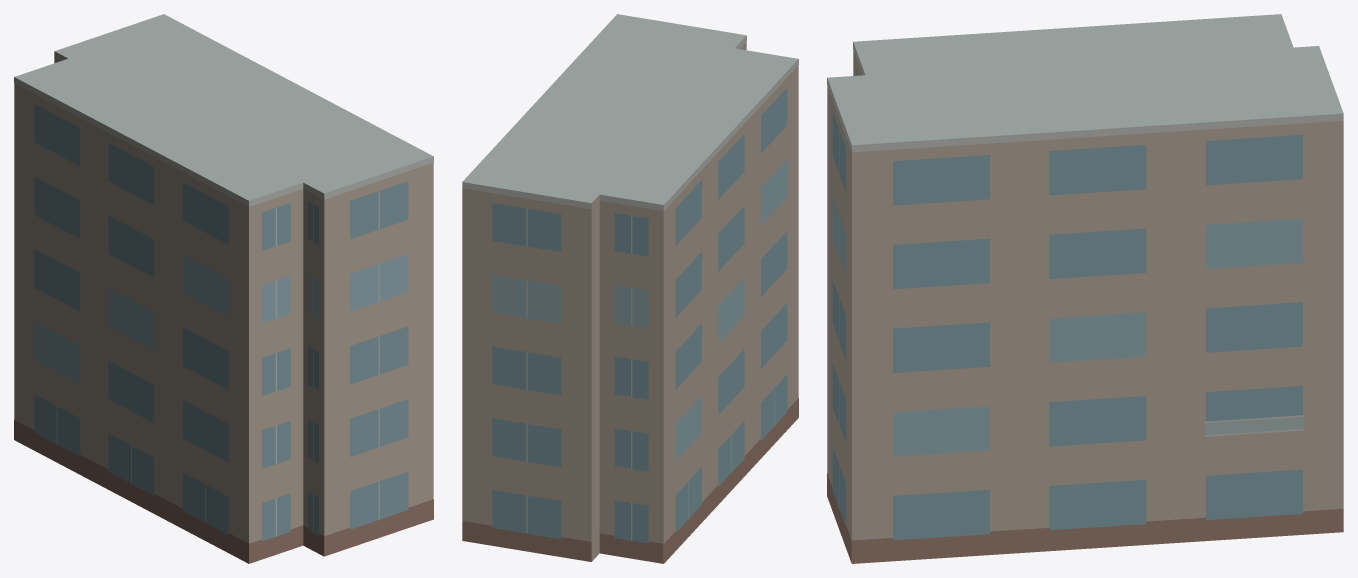
The model's file is survey-upis-32914250.glb.
The picture shows the model from 3 angles, left to right: view 1: azimuth 30°, elevation 25°; view 2: azimuth 150°, elevation 25°; view 3: azimuth 270°, elevation 25°; orthographic projection. The views are drawn at different scales.
Parts seen in each view (by area): view 1: survey-upis-32914250.tmp; view 2: survey-upis-32914250.tmp; view 3: survey-upis-32914250.tmp.
Boxes of the visible parts, x1=… form: survey-upis-32914250.tmp: x1=14, y1=14, x2=433, y2=563; survey-upis-32914250.tmp: x1=462, y1=14, x2=798, y2=563; survey-upis-32914250.tmp: x1=827, y1=14, x2=1343, y2=563.
Bounding box in the file's own units: 9.63 × 14.3 × 16.
